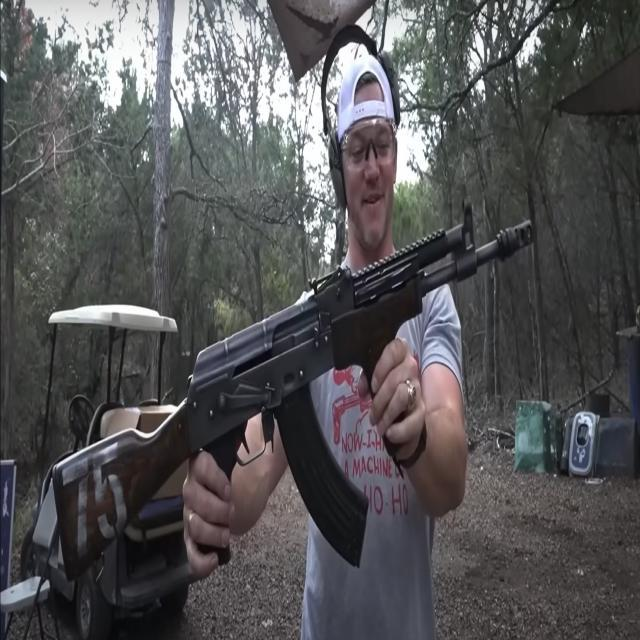ak: (49, 208, 537, 583)
